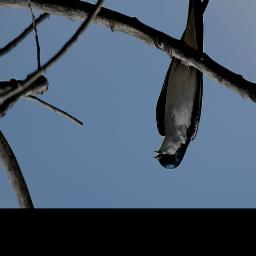Swallow: (153, 0, 209, 169)
